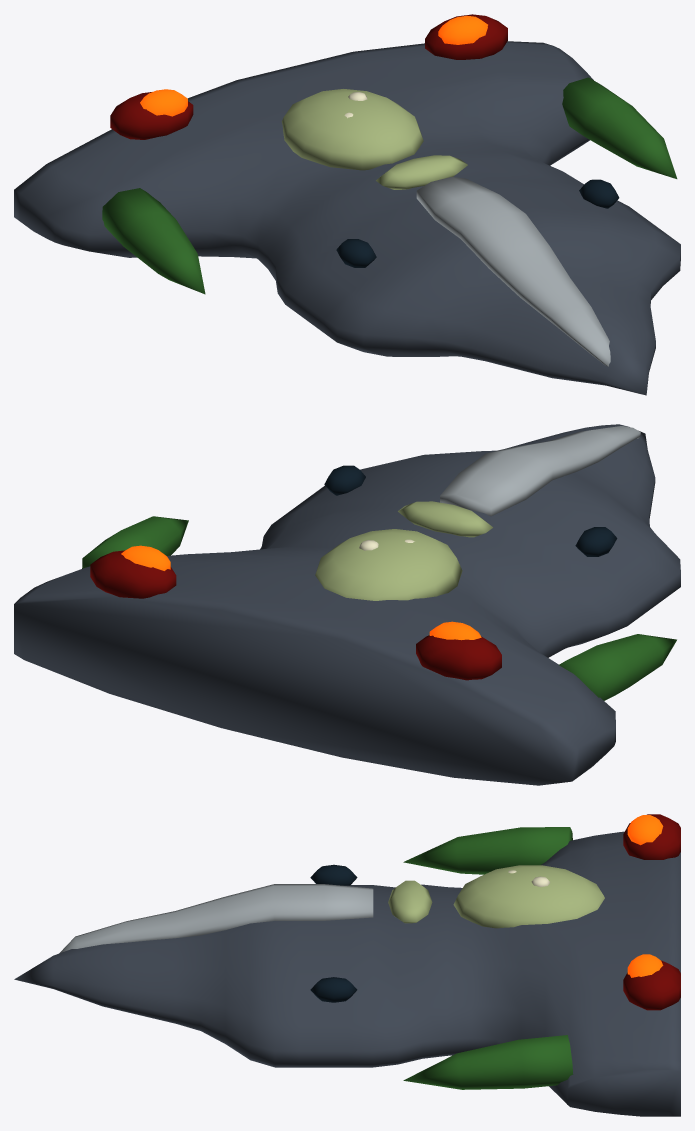
Rendered from newshh-199.glb.
3 renders of one model, top to bottom at view 1: azimuth 30°, elevation 25°; view 2: azimuth 150°, elevation 25°; view 3: azimuth 270°, elevation 25°, orthographic. The views are drawn at different scales.
Parts seen in each view (by area): view 1: newshh-199; view 2: newshh-199; view 3: newshh-199.
Boxes of the visible parts, box(x1,y1,x2,y2) form: newshh-199: box(14, 14, 680, 395); newshh-199: box(14, 424, 680, 785); newshh-199: box(14, 814, 680, 1116).
Bounding box in the file's own units: 2 × 0.5069 × 2.26.
